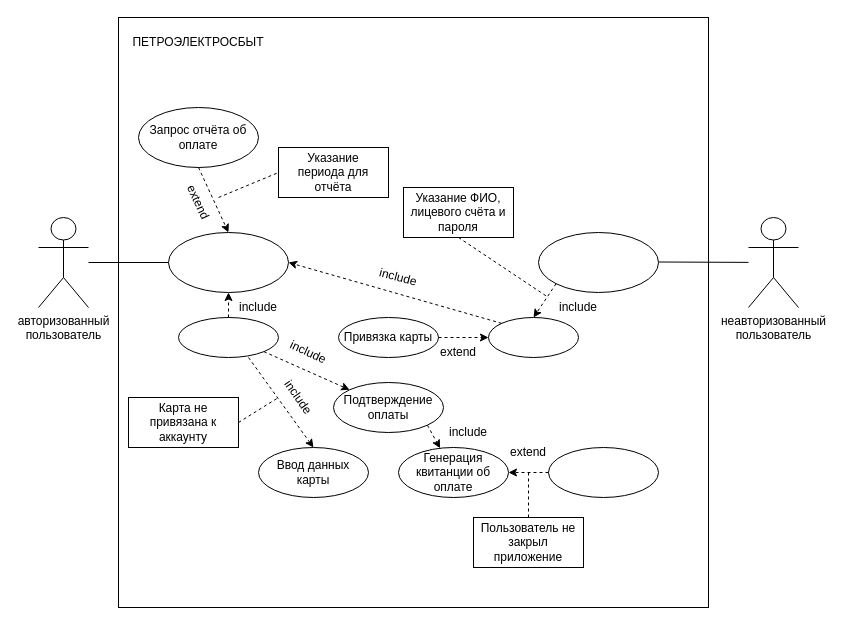
The diagram is 843 pixels wide and 625 high, and some of its shapes have lost their labels. The shapes that lost their labels are listed below. From the top down, each one's centre as x and y in pixels, then its label:
the point at 228,262: Ввод показаний индивидуального прибора учёта
the point at 598,262: Установка приложения
the point at 228,337: Оплата
the point at 533,337: Регистрация
the point at 603,472: Скачивание квитанции
